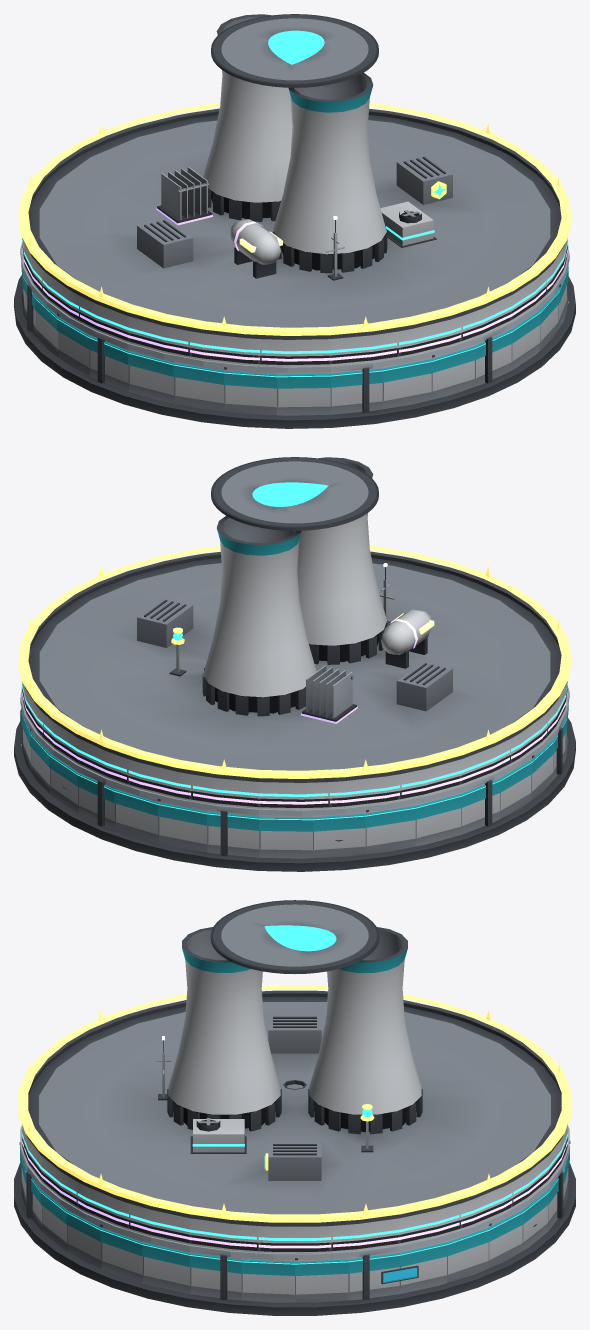
The model's file is atmo_processor.glb.
3 views of the same model, one above another, from view 1: azimuth 30°, elevation 25°; view 2: azimuth 150°, elevation 25°; view 3: azimuth 270°, elevation 25° (orthographic).
Parts seen in each view (by area): view 1: Roof, Base, L4, Wall_21, Wall_22, Wall_20, Wall_19, Wall_23, Wall_18, Wall_24, L3, Wall_17 (+22 smaller); view 2: Roof, Base, L4, Wall_10, Wall_09, Wall_11, Wall_12, Wall_08, Wall_13, Wall_07, Wall_14, Wall_06 (+22 smaller); view 3: Roof, Base, Wall_00, Wall_31, Wall_30, Wall_29, Wall_01, L3, Wall_02, Wall_28, Wall_03, Wall_04 (+21 smaller).
Boxes of the visible parts, box(x1,y1,x2,y2) form: Roof: box(23, 14, 565, 339); Base: box(14, 275, 575, 428); L4: box(156, 167, 282, 278); Wall_21: box(277, 372, 330, 415); Wall_22: box(330, 367, 383, 414); Wall_20: box(224, 367, 276, 415); Wall_19: box(173, 361, 224, 411); Wall_23: box(382, 357, 432, 409); Wall_18: box(128, 349, 174, 403); Wall_24: box(431, 344, 475, 399); L3: box(380, 201, 436, 247); Wall_17: box(88, 334, 128, 391); Roof: box(24, 457, 566, 782); Base: box(14, 718, 575, 871); L4: box(301, 609, 434, 723); Wall_10: box(259, 815, 312, 858); Wall_09: box(206, 810, 259, 857); Wall_11: box(313, 812, 365, 858); Wall_12: box(365, 804, 416, 854); Wall_08: box(157, 798, 207, 852); Wall_13: box(415, 792, 461, 846); Wall_07: box(114, 787, 158, 842); Wall_14: box(461, 777, 501, 834); Wall_06: box(77, 772, 115, 829); Roof: box(22, 900, 567, 1226); Base: box(14, 1162, 575, 1315); Wall_00: box(295, 1258, 348, 1302); Wall_31: box(241, 1258, 294, 1302); Wall_30: box(189, 1251, 241, 1300); Wall_29: box(142, 1241, 190, 1293); Wall_01: box(348, 1251, 400, 1300); L3: box(190, 1080, 306, 1153); Wall_02: box(399, 1241, 447, 1293); Wall_28: box(100, 1224, 142, 1282); Wall_03: box(447, 1226, 489, 1282); Wall_04: box(488, 1209, 523, 1268).
Size of the model in its own units: 14.75 by 7.58 by 14.75.
